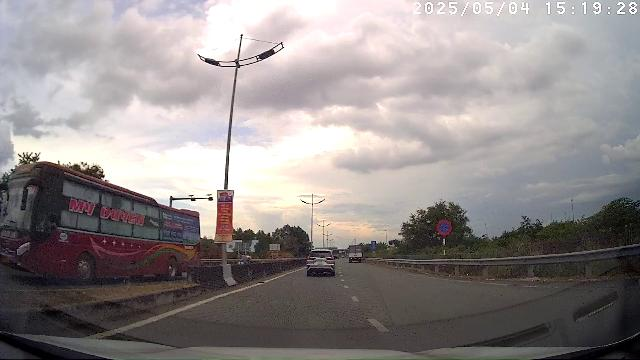130-cam-dung-va-do-xe: (436, 219, 453, 236)
